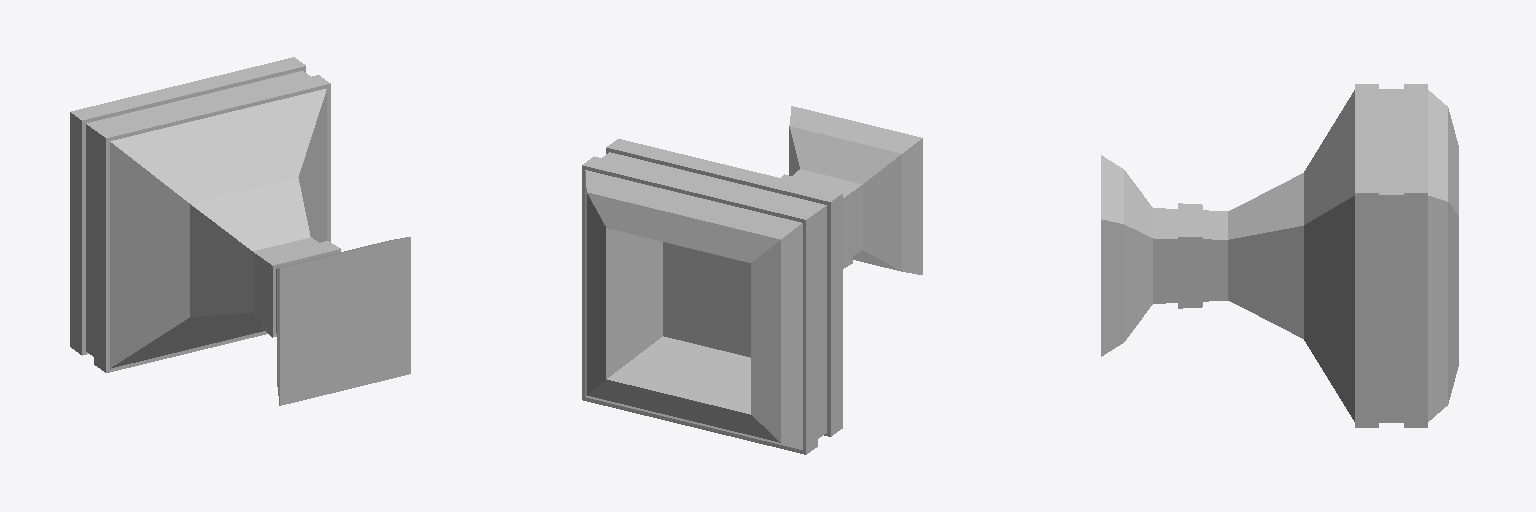
File: Brazier.obj
3 renders of one model, left to right at view 1: azimuth 30°, elevation 25°; view 2: azimuth 150°, elevation 25°; view 3: azimuth 270°, elevation 25°, orthographic.
Bounding box in the file's own units: 1.51 × 1.51 × 2.08.